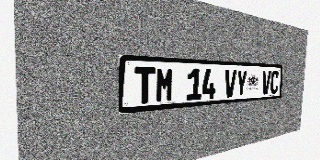1: (186, 68, 202, 101)
4: (202, 69, 216, 99)
C: (270, 71, 279, 94)
M: (155, 67, 174, 103)
T: (134, 66, 155, 105)
V: (224, 69, 237, 98), (261, 71, 271, 95)
Y: (236, 70, 247, 97)
